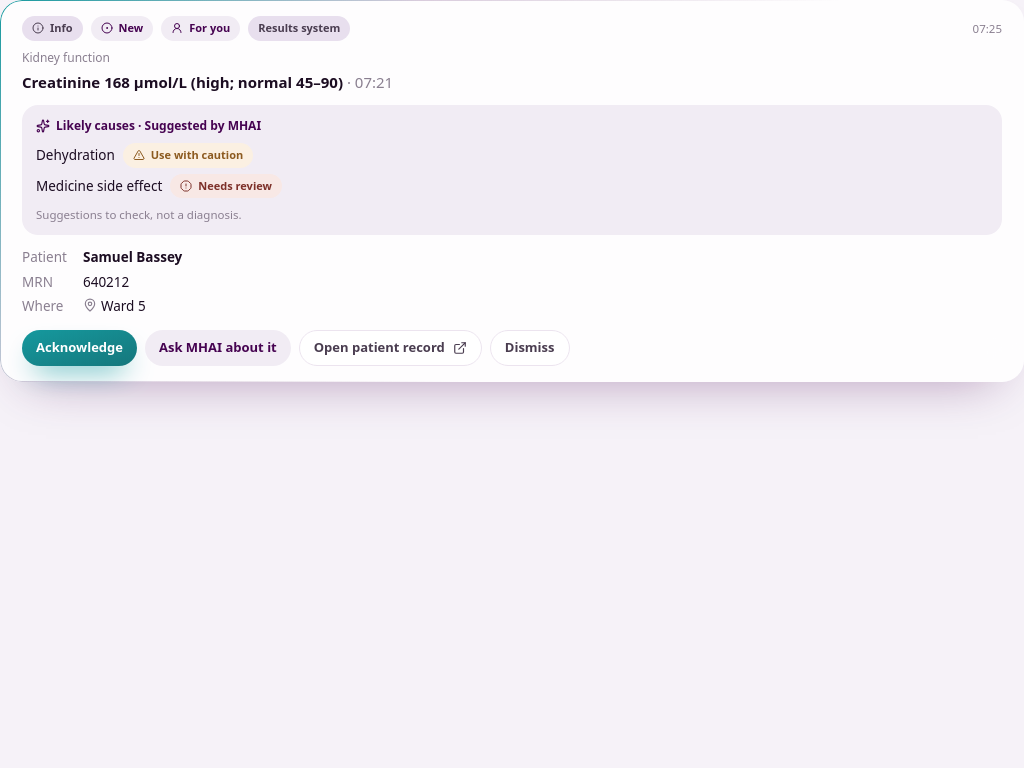
it: AlertCard › can't send a dismiss offline, and the dialog says why (F15)
Click the button "Dismiss".
click(530, 348)  # box [490,330,570,366]
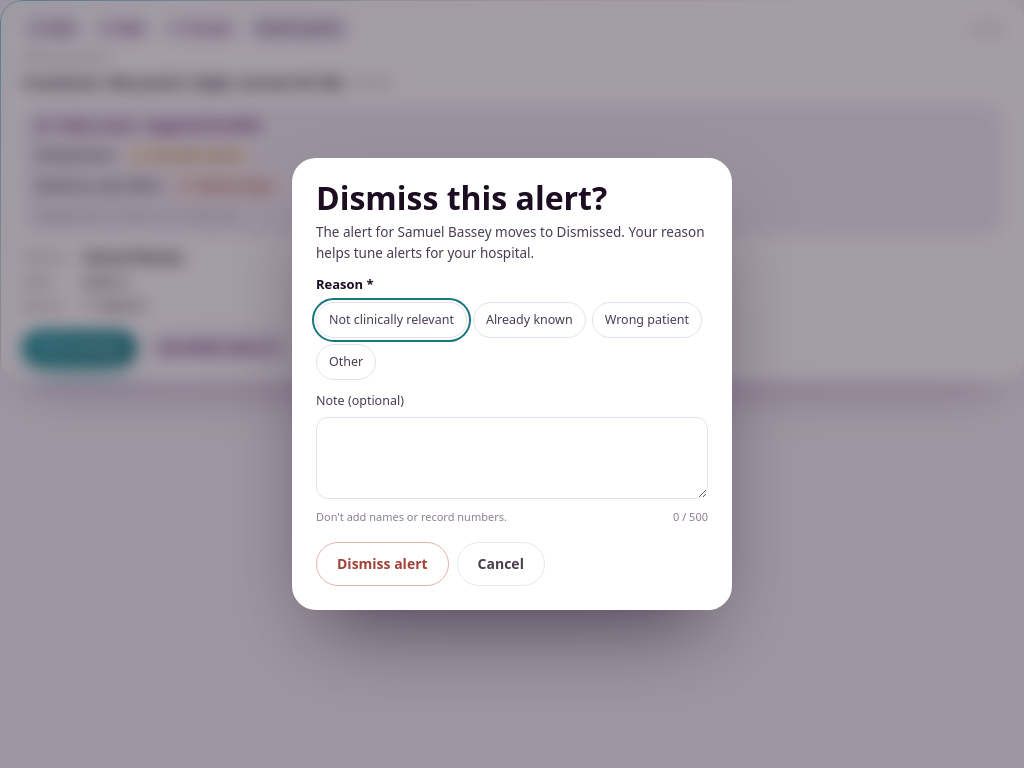
Click the radio button labelled "Already known".
click(529, 320)  # box [473,302,586,338]
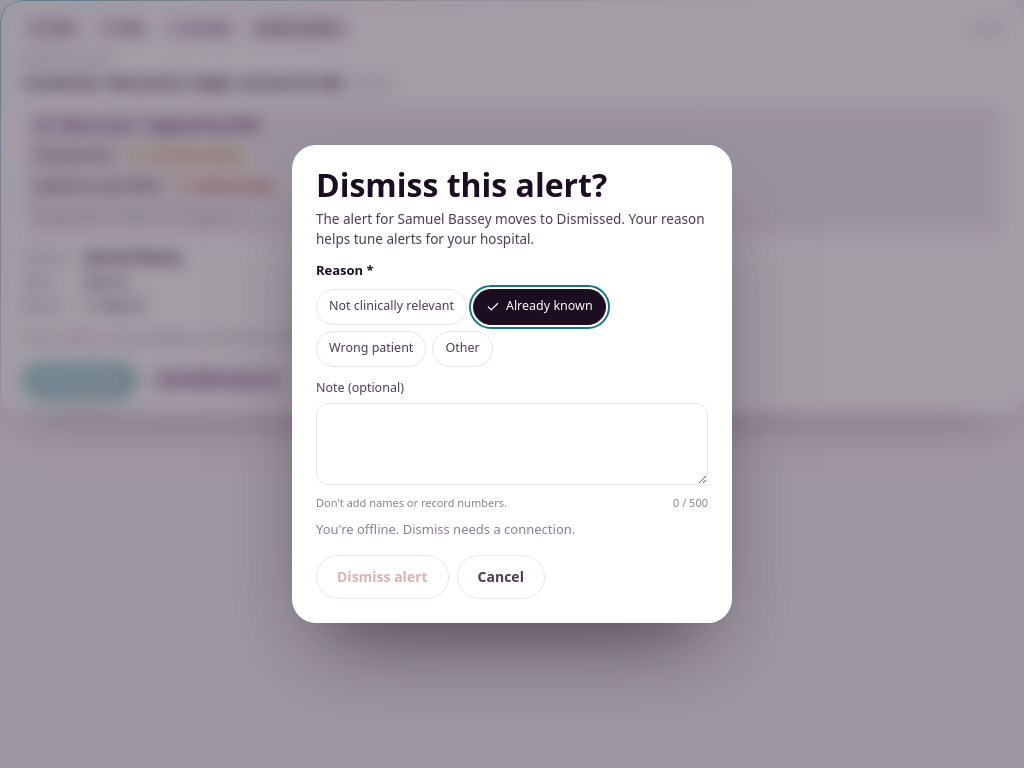
Expected: the button "Dismiss alert" is disabled, [316,555,449,599]
